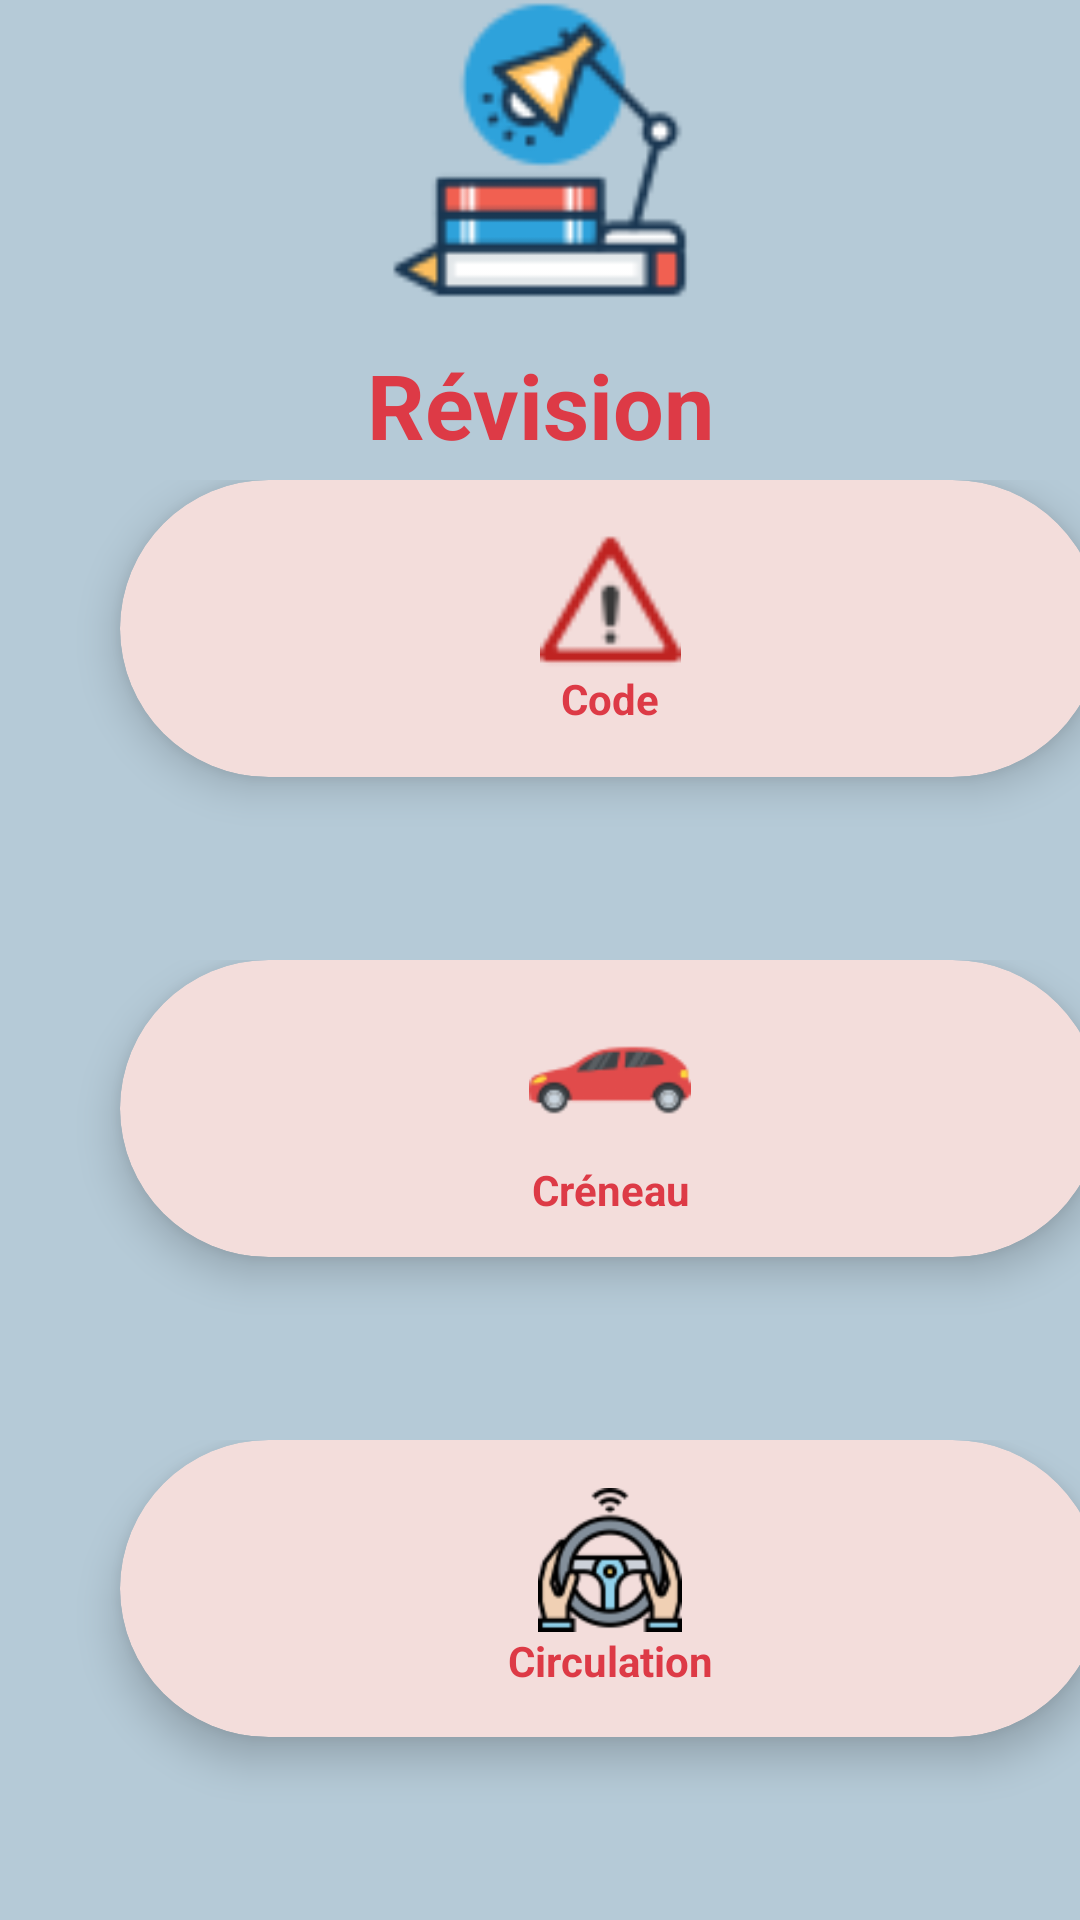

Locate icon controls on the screen. Image size 1080x1920, boxes as bbox(x1, y1, x2, y2).
avertissement: bbox(540, 536, 681, 663)
car: bbox(529, 1046, 691, 1114)
